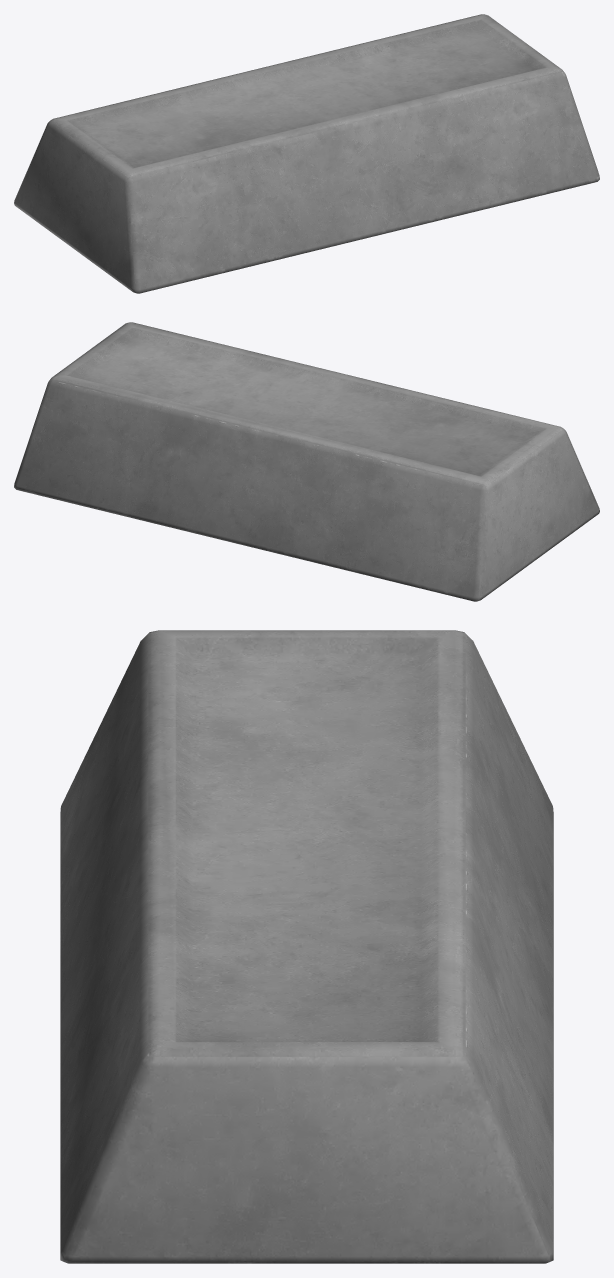
The model's file is tin-ingot.glb.
3 renders of one model, top to bottom at view 1: azimuth 30°, elevation 25°; view 2: azimuth 150°, elevation 25°; view 3: azimuth 270°, elevation 25°, orthographic. The views are drawn at different scales.
Parts seen in each view (by area): view 1: Куб; view 2: Куб; view 3: Куб.
Boxes of the visible parts, box(x1,y1,x2,y2) form: Куб: box(14, 14, 599, 293); Куб: box(14, 322, 599, 601); Куб: box(60, 630, 553, 1263).
Bounding box in the file's own units: 0.1295 × 0.0264 × 0.0591.
1 material, 1 textured.
